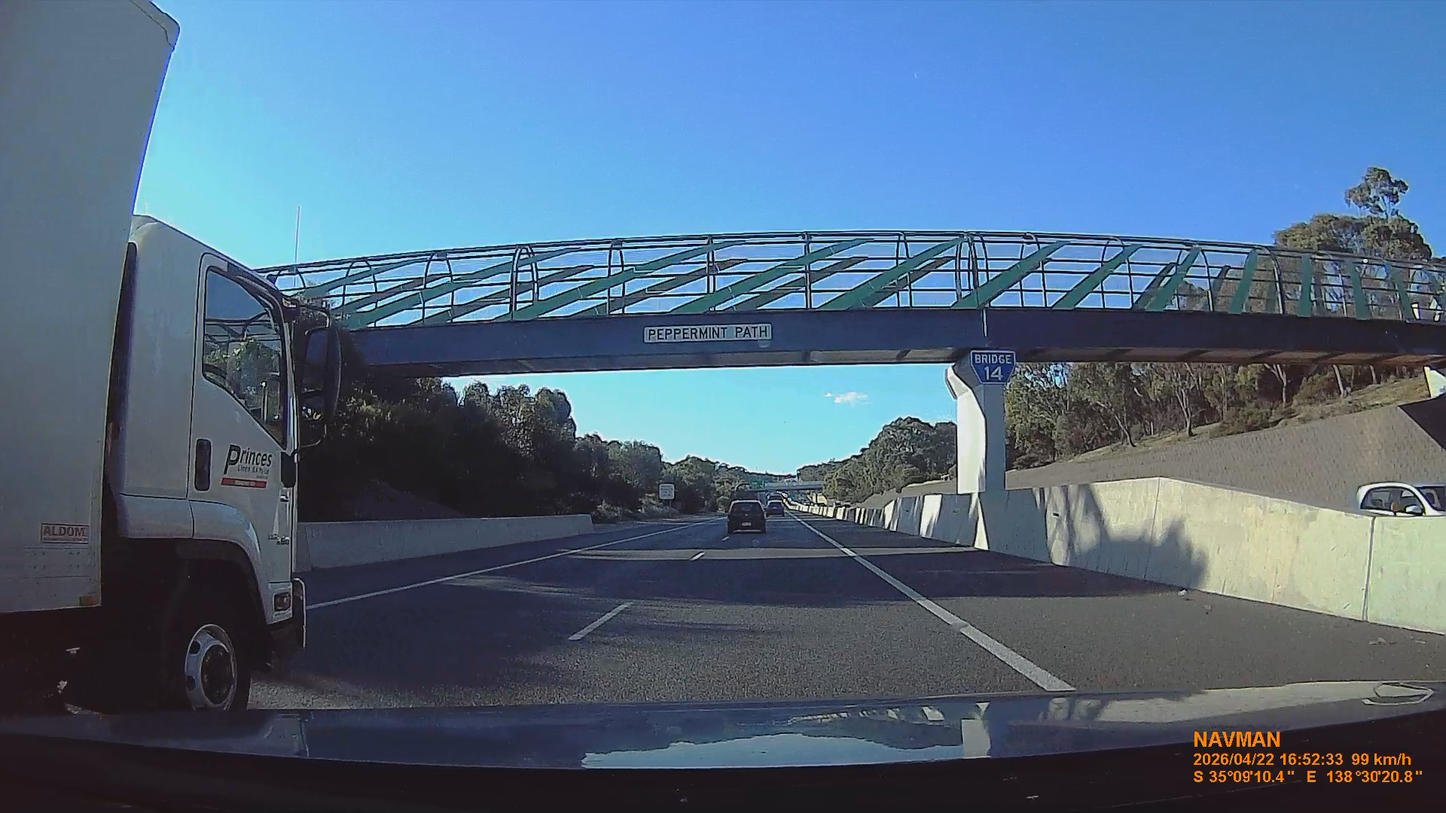road barriers: (880, 479, 1446, 630), (299, 515, 584, 574)
